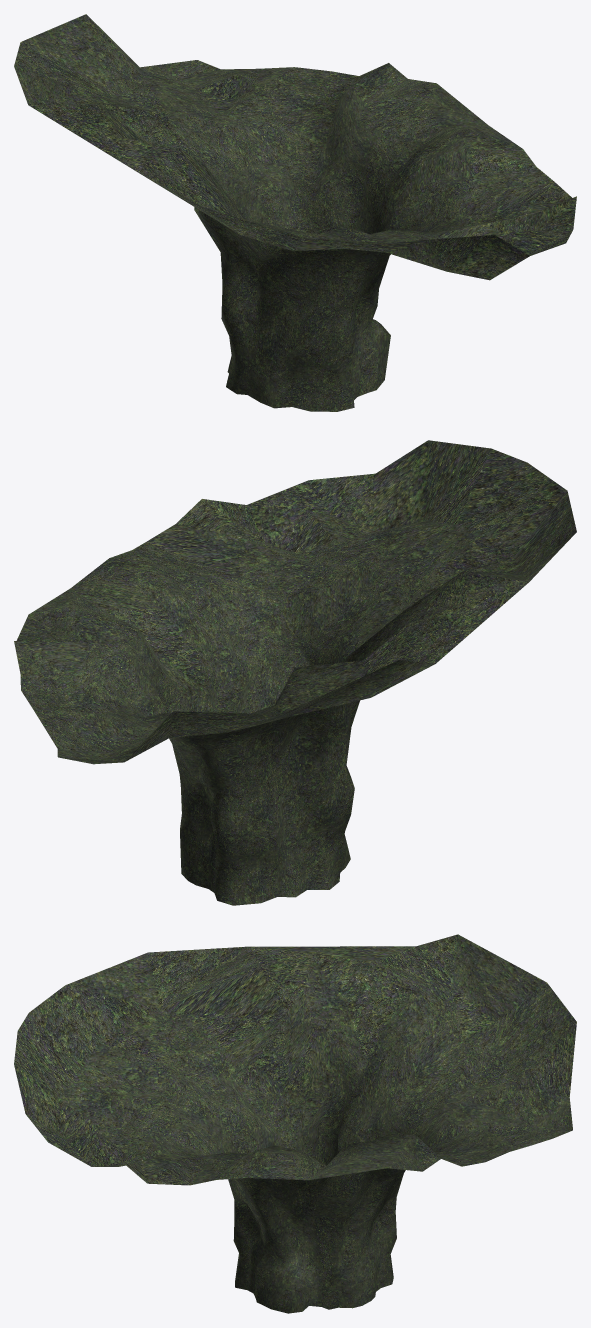
Rendered from cliff_pillar_00.fbx.
The picture shows the model from 3 angles, top to bottom: view 1: azimuth 30°, elevation 25°; view 2: azimuth 150°, elevation 25°; view 3: azimuth 270°, elevation 25°; orthographic projection. The views are drawn at different scales.
Parts seen in each view (by area): view 1: cliff_pillar_00; view 2: cliff_pillar_00; view 3: cliff_pillar_00.
Boxes of the visible parts, x1,y1,x2,y2 form: cliff_pillar_00: (14,14,576,411); cliff_pillar_00: (14,440,576,905); cliff_pillar_00: (14,934,576,1313).
Bounding box in the file's own units: 110 × 79.22 × 154.
